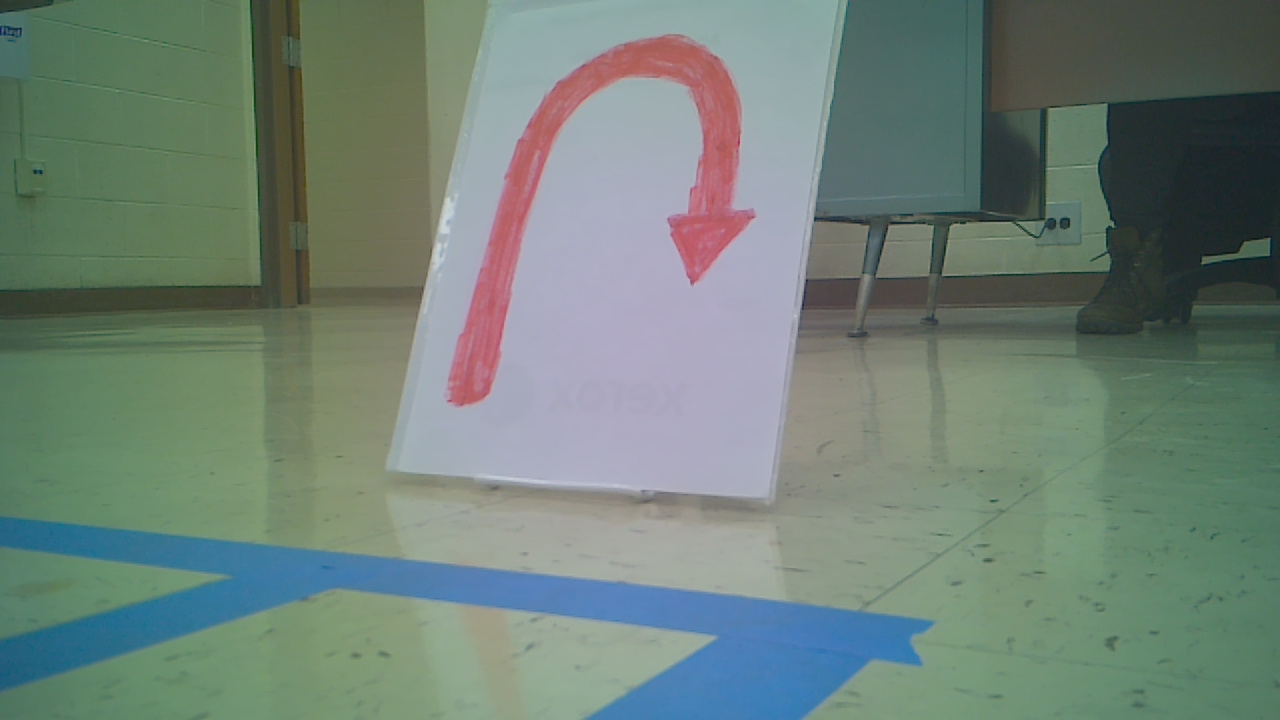uturn: (445, 34, 761, 407)
